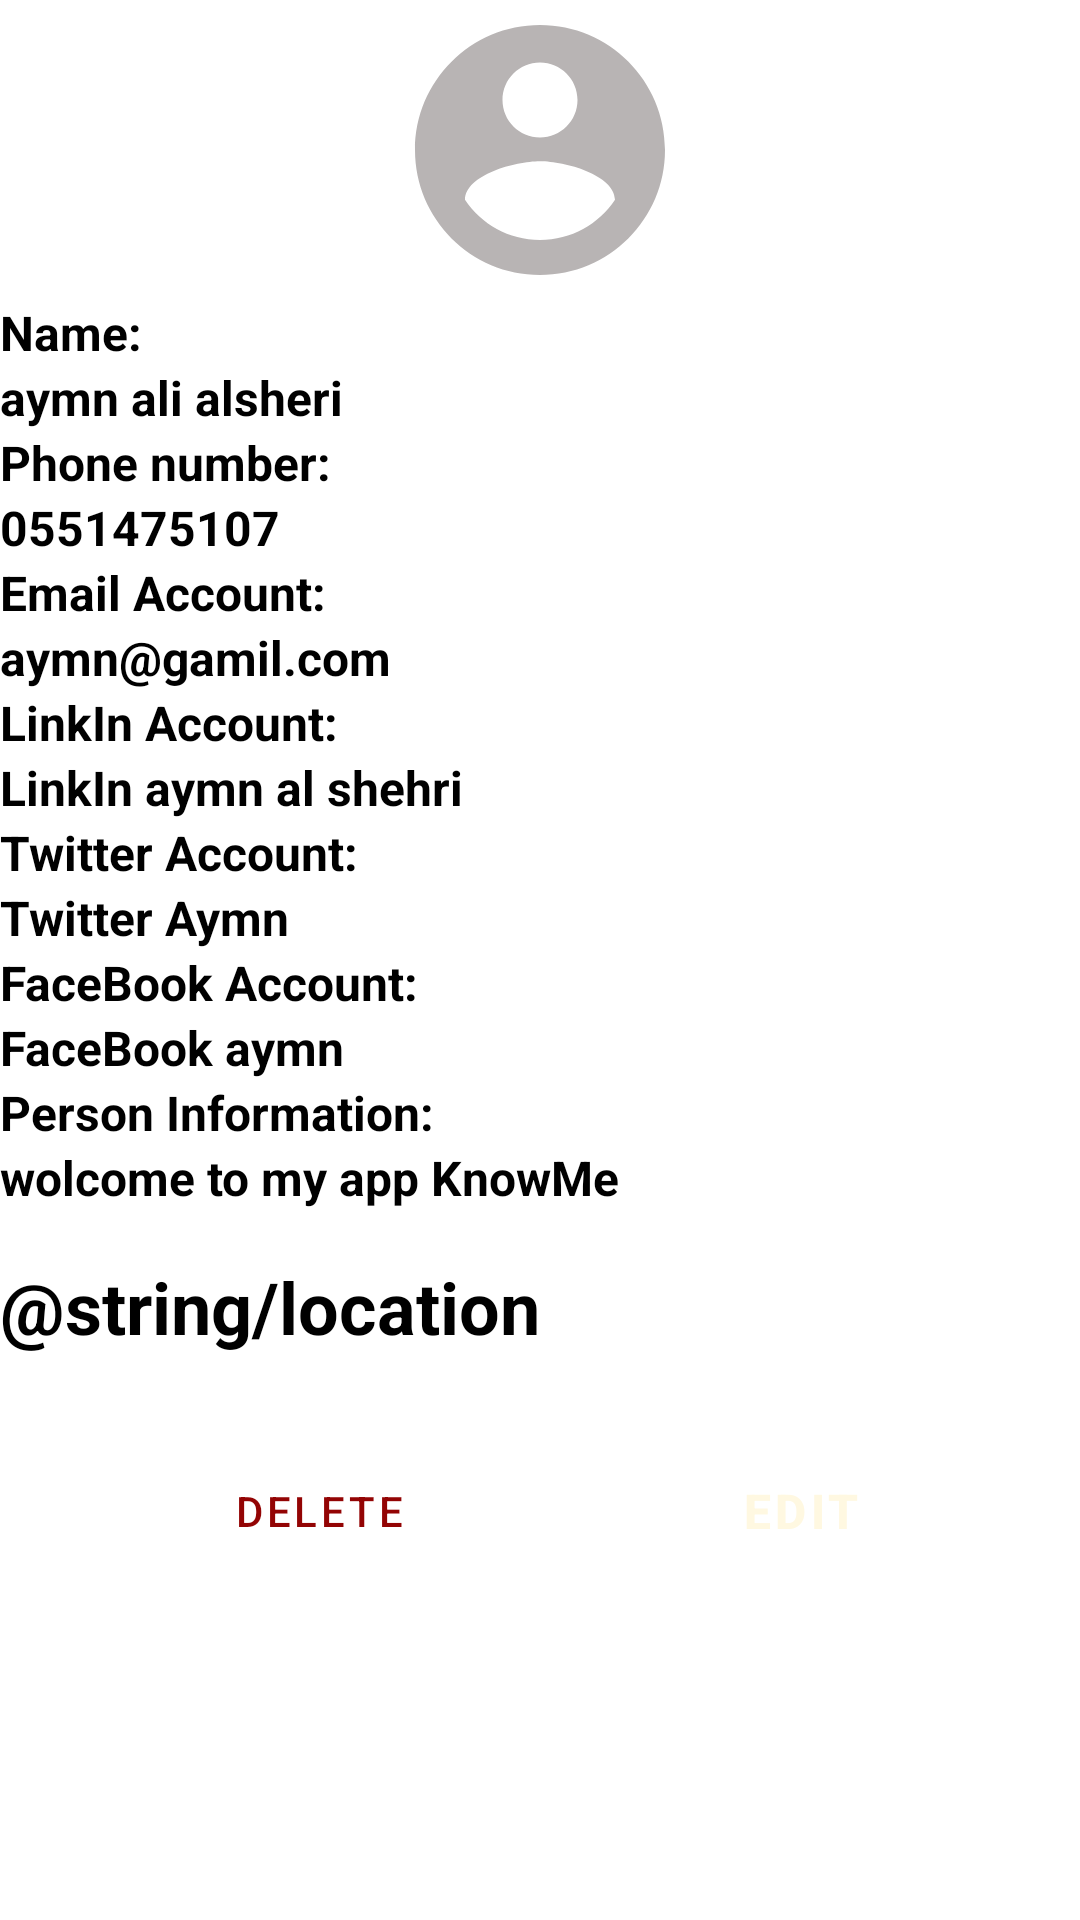

Where to tap for icons on this 1080px×1920px app screen, as (x=x, y=y):
account circle: (x=540, y=150)
